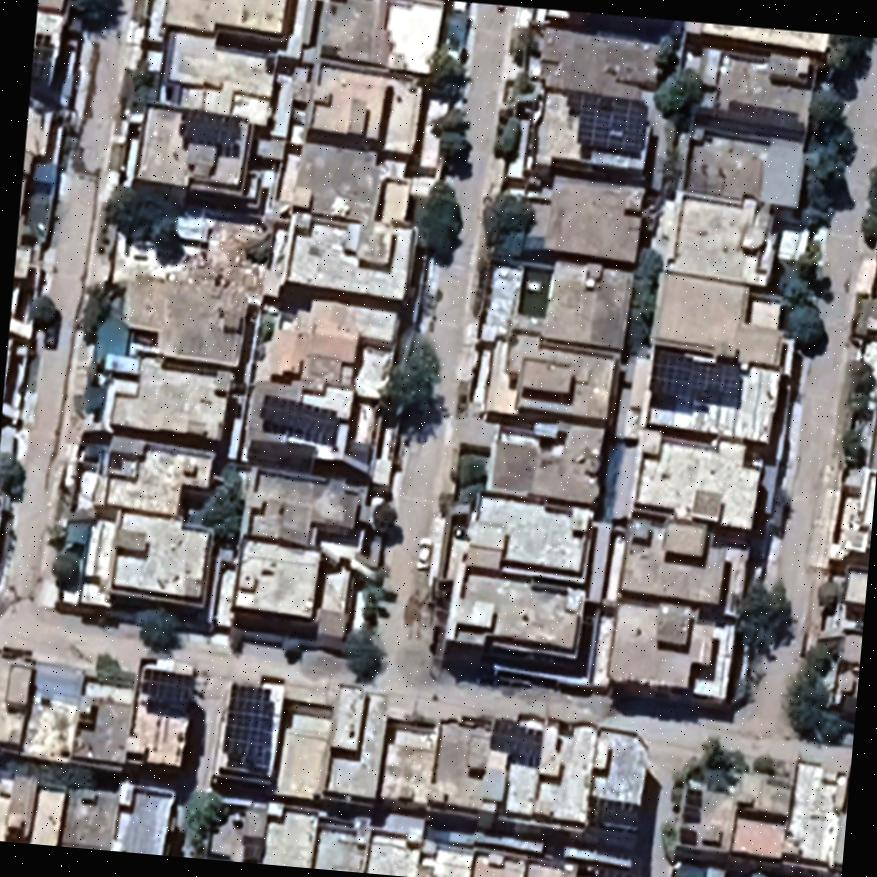Solarpanel: (645, 341, 745, 407), (571, 89, 652, 158), (219, 679, 272, 776), (261, 389, 342, 449), (486, 717, 544, 772), (134, 667, 196, 718), (176, 106, 243, 152), (590, 792, 635, 830), (594, 864, 627, 877)
